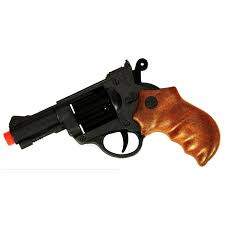Arma Falsa: (1, 57, 221, 168)
